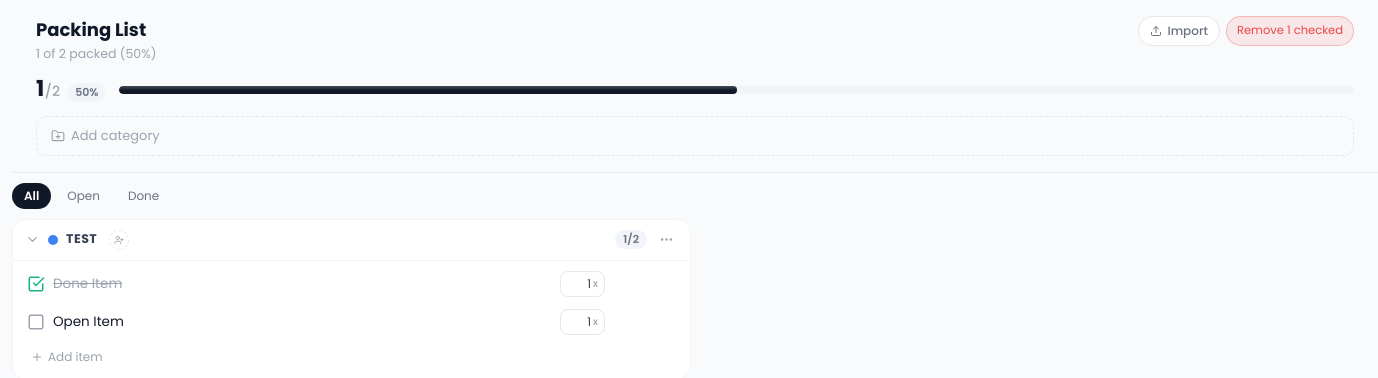
Test case: PackingListPanel › FE-COMP-PACKING-019: filtering to Open hides checked items
The image size is (1378, 378).
Click the button "Open": (84,196) [55,183,112,209]
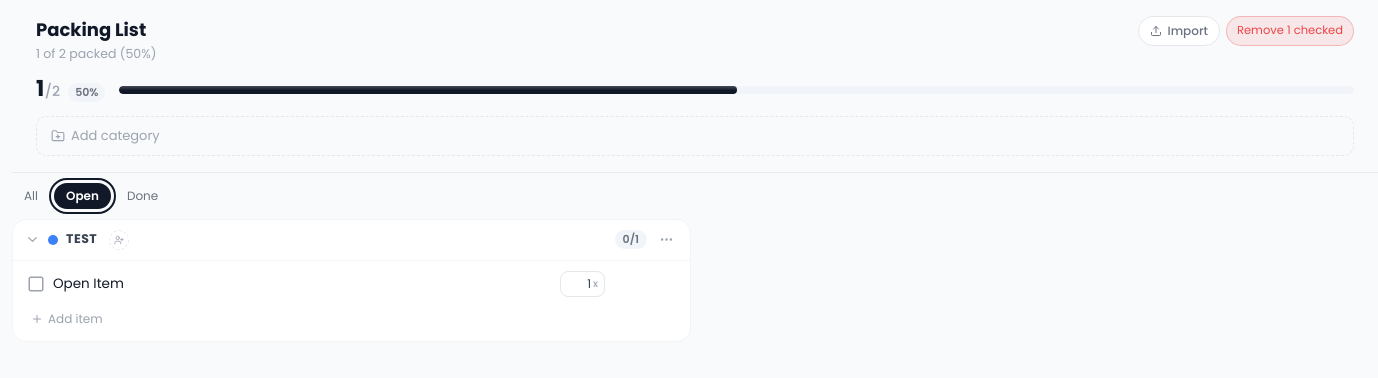
Check: the text "Open Item" is shown, box [53,274,124,292]
Check: the text "Done Item" is gone
